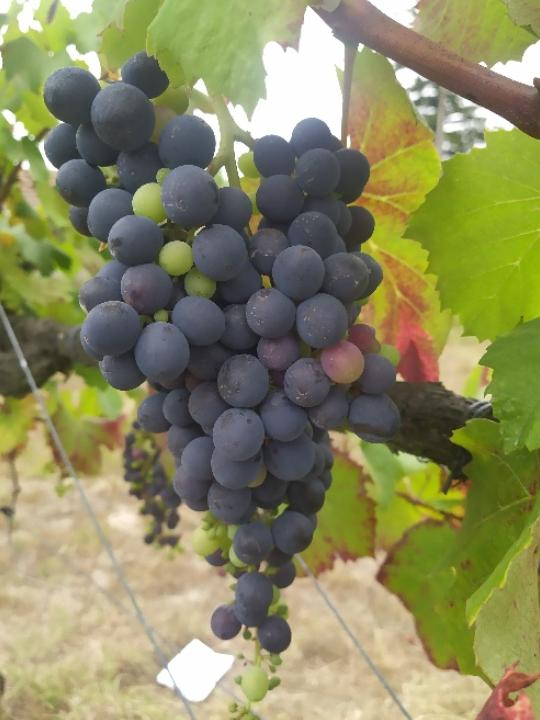grape: (42, 50, 401, 720)
